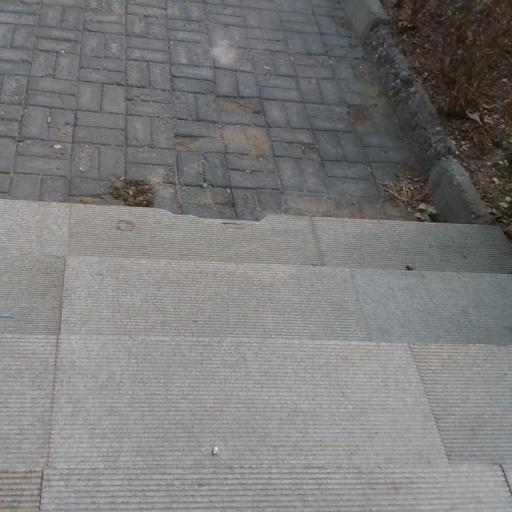stairs: (0, 201, 511, 511)
